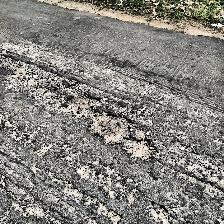pothole: (0, 52, 44, 86), (88, 112, 132, 144), (64, 90, 100, 118), (124, 138, 156, 162)
